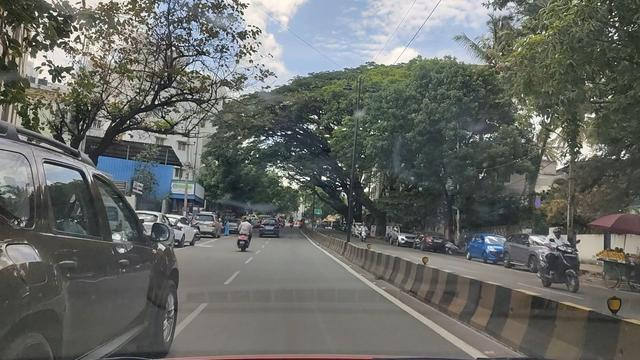LMV: (0, 118, 176, 360)
